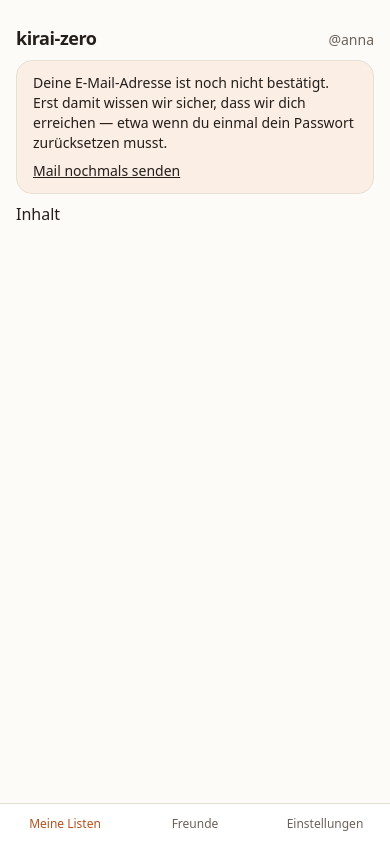
verification banner › asks for a new mail and confirms it went out
Click the button "Mail nochmals senden" at (107, 171), box [33,161,180,181]
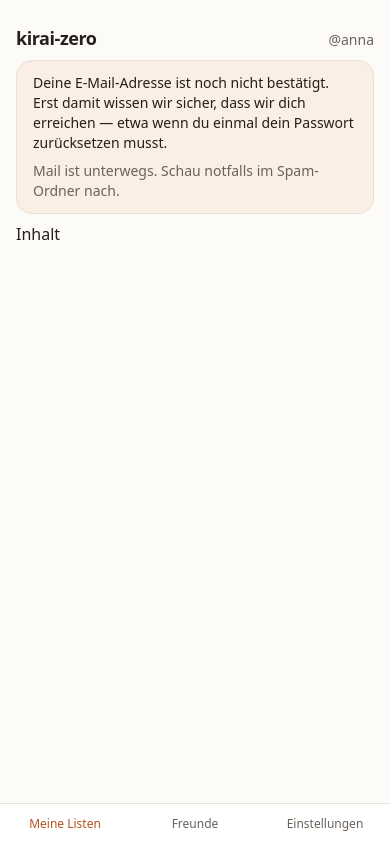
Expected: the message shows "Mail ist unterwegs", [33,161,319,200]
